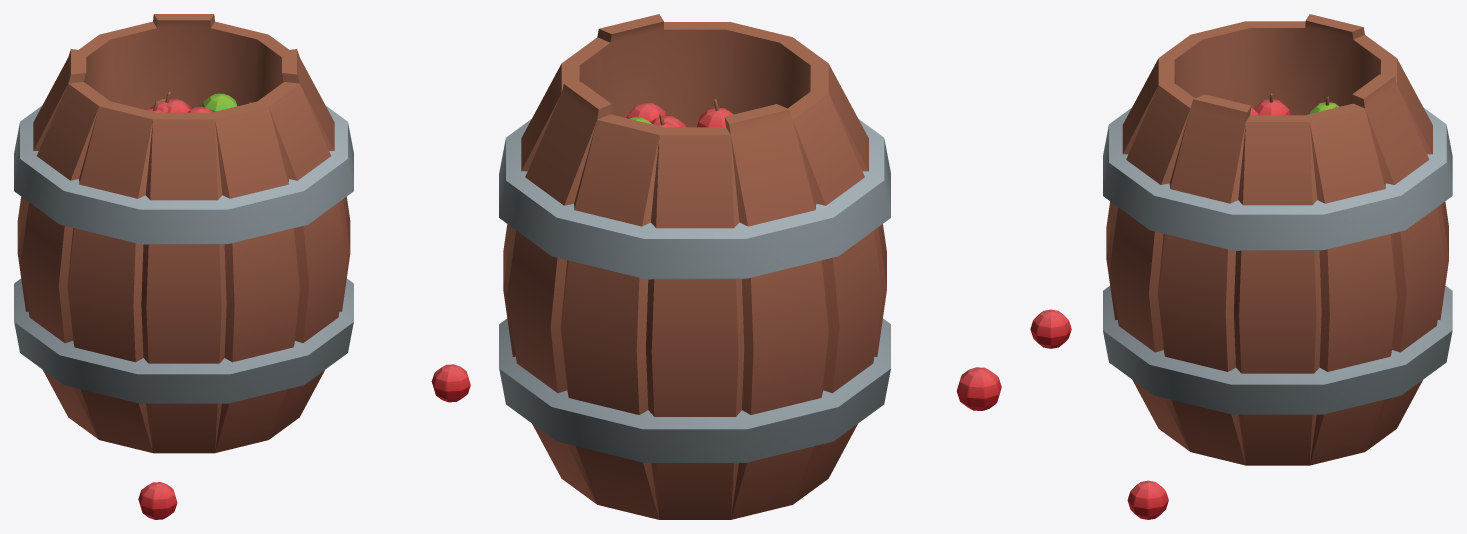
File: apple_barrel_16.glb
The picture shows the model from 3 angles, left to right: view 1: azimuth 30°, elevation 25°; view 2: azimuth 150°, elevation 25°; view 3: azimuth 270°, elevation 25°; orthographic projection. The views are drawn at different scales.
Visible parts, largest first — view 1: apple_barrel_16; view 2: apple_barrel_16; view 3: apple_barrel_16.
Boxes of the visible parts, x1,y1,x2,y2 form: apple_barrel_16: (14,14,470,519); apple_barrel_16: (499,14,1001,519); apple_barrel_16: (1030,14,1452,519).
Size of the model in its own units: 1.38 by 1.2 by 1.3.
2 materials, 2 textured.
